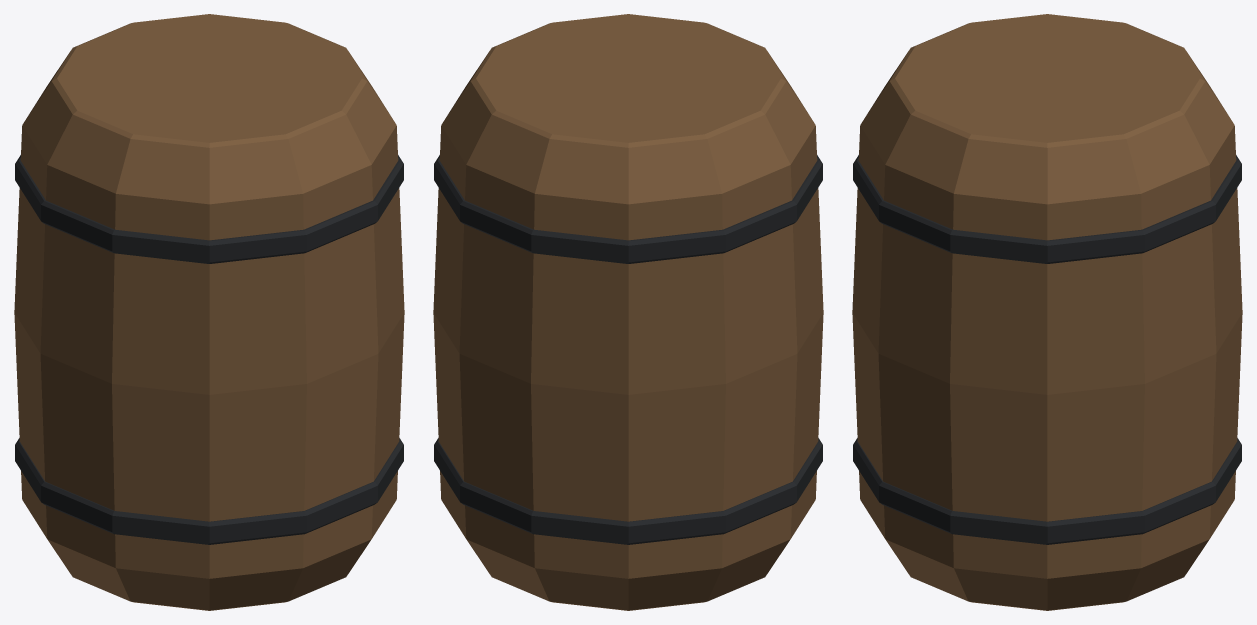
File: V_Tonneau.glb
The picture shows the model from 3 angles, left to right: view 1: azimuth 30°, elevation 25°; view 2: azimuth 150°, elevation 25°; view 3: azimuth 270°, elevation 25°; orthographic projection.
Parts seen in each view (by area): view 1: V_Tonneau; view 2: V_Tonneau; view 3: V_Tonneau.
Boxes of the visible parts, x1,y1,x2,y2 form: V_Tonneau: (14, 14, 404, 610); V_Tonneau: (433, 14, 823, 610); V_Tonneau: (852, 14, 1242, 610).
Size of the model in its own units: 0.68 by 0.9 by 0.68.
